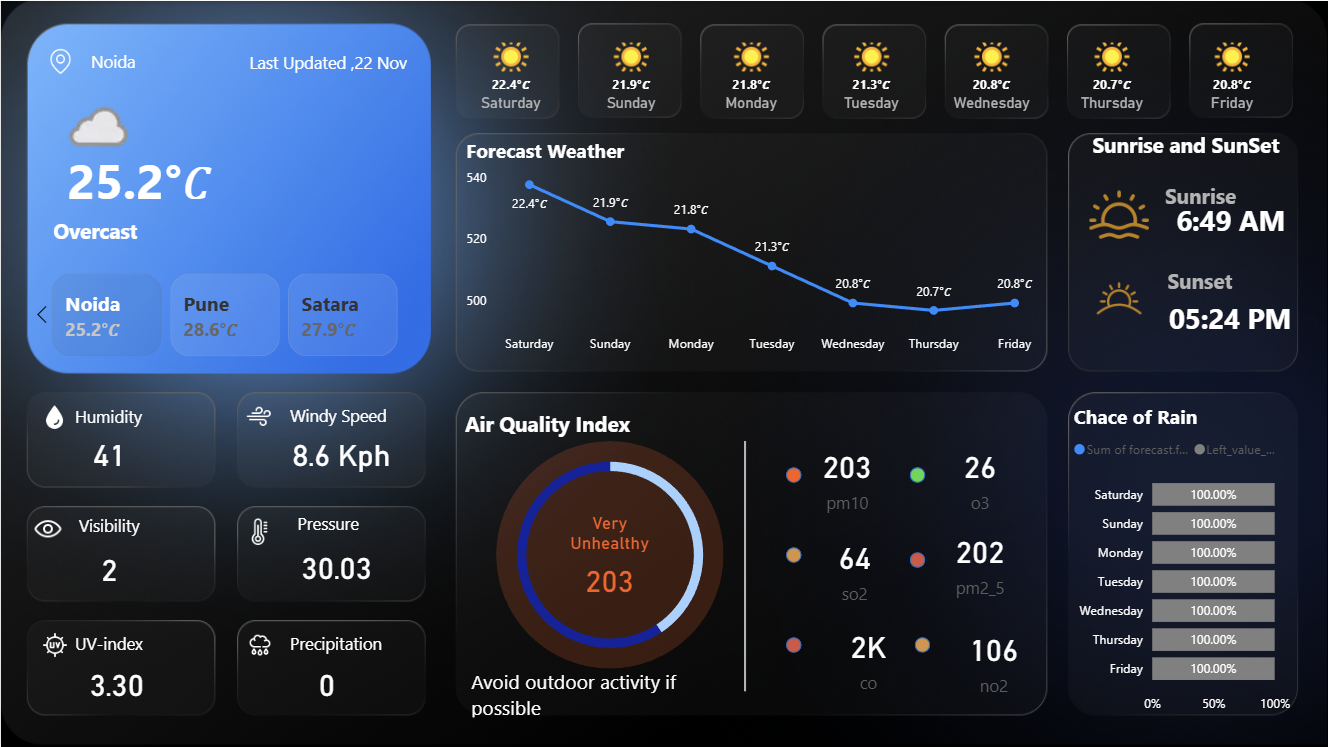

What the dashboard file says about the page in this screenshot:
{"tool":"powerbi","page":{"name":"Page 1","canvas":[1280,720],"ordinal":0},"visuals":[{"type":"shape","box":[478,424.6,219.7,219.7],"z":0},{"type":"advancedSlicerVisual","fields":{"Values":["Locations.location.name"]},"box":[24.5,258.3,386.7,90.9],"z":1000},{"type":"shape","box":[41.1,125.6,186,95.4],"z":2000},{"type":"shape","box":[1.2,202.9,179.9,37.4],"z":3000},{"type":"shape","box":[45.8,39.6,124.9,35.9],"z":4000},{"type":"shape","box":[227.6,39.6,175.6,37.1],"z":5000},{"type":"image","box":[45.8,44.5,23.5,27.2],"z":6000},{"type":"cardVisual","fields":{"Data":["Min(current.current.condition.icon)"]},"box":[25.4,83.3,130.4,119.5],"z":7000},{"type":"image","box":[21,494.5,49.5,30],"z":8000},{"type":"textbox","title":"Humidity","box":[65.9,389.6,83.9,24],"z":9000},{"type":"textbox","title":"Visibility","box":[70.4,494.5,97.4,24],"z":10000},{"type":"image","box":[21,389.6,62.9,24],"z":11000},{"type":"image","box":[217.7,388.3,63.1,24.7],"z":12000},{"type":"textbox","title":"Windy Speed","box":[273.3,388.3,110.1,24.7],"z":13000},{"type":"textbox","title":"Precipitation","box":[273.3,609.7,100.2,24.7],"z":14000},{"type":"textbox","title":"UV-index","box":[66.8,609.7,84.1,24.7],"z":15000},{"type":"textbox","title":"Pressure","box":[280.7,493.4,82.9,24.7],"z":16000},{"type":"image","box":[21,609.7,63.1,24.7],"z":17000},{"type":"image","box":[218.9,609.7,63.1,24.7],"z":18000},{"type":"image","box":[218.9,499.2,62.7,25.6],"z":19000},{"type":"card","fields":{"Values":["Sum(current.current.humidity)"]},"box":[62.9,413.6,83.9,46.5],"z":20000},{"type":"card","fields":{"Values":["_measures.Wind_Speed"]},"box":[272.4,413.8,111.9,45.7],"z":21000},{"type":"card","fields":{"Values":["Sum(current.current.pressure_in)"]},"box":[281.7,523,83.9,46.5],"z":22000},{"type":"card","fields":{"Values":["Sum(current.current.vis_km)"]},"box":[62.9,524.5,83.9,46.5],"z":23000},{"type":"card","fields":{"Values":["Sum(current.current.uv)"]},"box":[70.4,635.4,83.9,46.5],"z":24000},{"type":"card","fields":{"Values":["Sum(current.current.precip_in)"]},"box":[272.7,635.4,83.9,46.5],"z":25000},{"type":"advancedSlicerVisual","fields":{"Values":["forcast_day.Day_Name"]},"box":[432.8,21.2,818,103.2],"z":26000},{"type":"lineChart","title":" Forecast Weather","fields":{"Y":["Sum(forcast_day.forecast.forecastday.day.avgtemp_c)"],"Category":["forecast_day.Day_Name"]},"box":[443.6,131.4,570.8,217.6],"z":27000},{"type":"textbox","title":"Sunrise and SunSet","box":[1048.4,125.3,201.2,35.3],"z":28000},{"type":"shape","box":[1062.6,221.7,188.6,95],"z":29000},{"type":"shape","box":[1107.2,177.1,158.4,67.7],"z":30000},{"type":"shape","box":[1078.4,152.6,158.4,67.7],"z":31000},{"type":"shape","box":[1091.4,257.7,188.6,95],"z":32000},{"type":"image","box":[1039.6,177.1,77.8,57.6],"z":33000},{"type":"image","box":[1039.6,257.7,77.8,57.6],"z":34000},{"type":"hundredPercentStackedBarChart","title":"Chace of Rain","fields":{"Category":["forecast_day.Day_Name"],"Y":["Sum(forecast_day.forecast.forecastday.day.daily_chance_of_rain)","current.Left_value_Rain"]},"box":[1029.9,388.4,219.2,307.8],"z":35000},{"type":"textbox","title":"Air Quality Index","box":[443.2,394.9,201.5,35.5],"z":36000},{"type":"card","fields":{"Values":["Sum(current.current.air_quality.pm10)"]},"box":[764.6,414.2,103.9,92],"z":37000},{"type":"card","fields":{"Values":["Sum(current.current.air_quality.o3)"]},"box":[892.9,414.2,104.8,91.9],"z":38000},{"type":"card","fields":{"Values":["Sum(current.current.air_quality.so2)"]},"box":[772,501.8,103.9,90.6],"z":39000},{"type":"card","fields":{"Values":["Sum(current.current.air_quality.pm2_5)"]},"box":[892.9,496.4,104.8,91.9],"z":40000},{"type":"card","fields":{"Values":["Sum(current.current.air_quality.co)"]},"box":[785.4,587.9,103.9,92],"z":41000},{"type":"card","fields":{"Values":["Sum(current.current.air_quality.no2)"]},"box":[905.8,589.9,104.8,91.9],"z":42000},{"type":"shape","box":[757.1,449.8,15,15],"z":43000},{"type":"shape","box":[877.4,531.5,15,15],"z":44000},{"type":"shape","box":[877.4,449.8,15,15],"z":45000},{"type":"shape","box":[757.1,527,15,15],"z":46000},{"type":"shape","box":[757.1,614.6,15,15],"z":47000},{"type":"shape","box":[881.8,614.6,14.8,14.8],"z":48000},{"type":"shape","box":[697.8,424.6,41.6,242],"z":49000},{"type":"donutChart","fields":{"Y":["Sum(current.current.air_quality.pm10)","_measures.Left_value_PM10"]},"box":[469.1,417.2,237.5,234.6],"z":50000},{"type":"card","fields":{"Values":["Sum(current.current.air_quality.pm10)"]},"box":[535.9,492.9,103.9,92],"z":51000},{"type":"textbox","box":[448.3,644.3,279.1,47.5],"z":52000}]}

Visuals, with their boxes in screenshot pixels (x1, y1, x2, y2), scaled from the page's 1280x720 canvas onto the 1328x747 screenshot:
shape: x1=496 y1=441 x2=724 y2=668
advancedSlicerVisual - Locations.location.name: x1=25 y1=268 x2=427 y2=362
shape: x1=43 y1=130 x2=236 y2=229
shape: x1=1 y1=211 x2=188 y2=249
shape: x1=48 y1=41 x2=177 y2=78
shape: x1=236 y1=41 x2=418 y2=80
image: x1=48 y1=46 x2=72 y2=74
cardVisual - Min(current.current.condition.icon): x1=26 y1=86 x2=162 y2=210
image: x1=22 y1=513 x2=73 y2=544
"Humidity" textbox: x1=68 y1=404 x2=155 y2=429
"Visibility" textbox: x1=73 y1=513 x2=174 y2=538
image: x1=22 y1=404 x2=87 y2=429
image: x1=226 y1=403 x2=291 y2=428
"Windy Speed" textbox: x1=284 y1=403 x2=398 y2=428
"Precipitation" textbox: x1=284 y1=633 x2=388 y2=658
"UV-index" textbox: x1=69 y1=633 x2=157 y2=658
"Pressure" textbox: x1=291 y1=512 x2=377 y2=538
image: x1=22 y1=633 x2=87 y2=658
image: x1=227 y1=633 x2=293 y2=658
image: x1=227 y1=518 x2=292 y2=544
card - Sum(current.current.humidity): x1=65 y1=429 x2=152 y2=477
card - _measures.Wind_Speed: x1=283 y1=429 x2=399 y2=477
card - Sum(current.current.pressure_in): x1=292 y1=543 x2=379 y2=591
card - Sum(current.current.vis_km): x1=65 y1=544 x2=152 y2=592
card - Sum(current.current.uv): x1=73 y1=659 x2=160 y2=707
card - Sum(current.current.precip_in): x1=283 y1=659 x2=370 y2=707
advancedSlicerVisual - forcast_day.Day_Name: x1=449 y1=22 x2=1298 y2=129
" Forecast Weather" lineChart: x1=460 y1=136 x2=1052 y2=362
"Sunrise and SunSet" textbox: x1=1088 y1=130 x2=1296 y2=167
shape: x1=1102 y1=230 x2=1298 y2=329
shape: x1=1149 y1=184 x2=1313 y2=254
shape: x1=1119 y1=158 x2=1283 y2=229
shape: x1=1132 y1=267 x2=1327 y2=366
image: x1=1079 y1=184 x2=1159 y2=244
image: x1=1079 y1=267 x2=1159 y2=327
"Chace of Rain" hundredPercentStackedBarChart: x1=1069 y1=403 x2=1296 y2=722
"Air Quality Index" textbox: x1=460 y1=410 x2=669 y2=447
card - Sum(current.current.air_quality.pm10): x1=793 y1=430 x2=901 y2=525
card - Sum(current.current.air_quality.o3): x1=926 y1=430 x2=1035 y2=525
card - Sum(current.current.air_quality.so2): x1=801 y1=521 x2=909 y2=615
card - Sum(current.current.air_quality.pm2_5): x1=926 y1=515 x2=1035 y2=610
card - Sum(current.current.air_quality.co): x1=815 y1=610 x2=923 y2=705
card - Sum(current.current.air_quality.no2): x1=940 y1=612 x2=1048 y2=707
shape: x1=785 y1=467 x2=801 y2=482
shape: x1=910 y1=551 x2=926 y2=567
shape: x1=910 y1=467 x2=926 y2=482
shape: x1=785 y1=547 x2=801 y2=562
shape: x1=785 y1=638 x2=801 y2=653
shape: x1=915 y1=638 x2=930 y2=653
shape: x1=724 y1=441 x2=767 y2=692
donutChart - Sum(current.current.air_quality.pm10) x _measures.Left_value_PM10: x1=487 y1=433 x2=733 y2=676
card - Sum(current.current.air_quality.pm10): x1=556 y1=511 x2=664 y2=607
textbox: x1=465 y1=668 x2=755 y2=718
